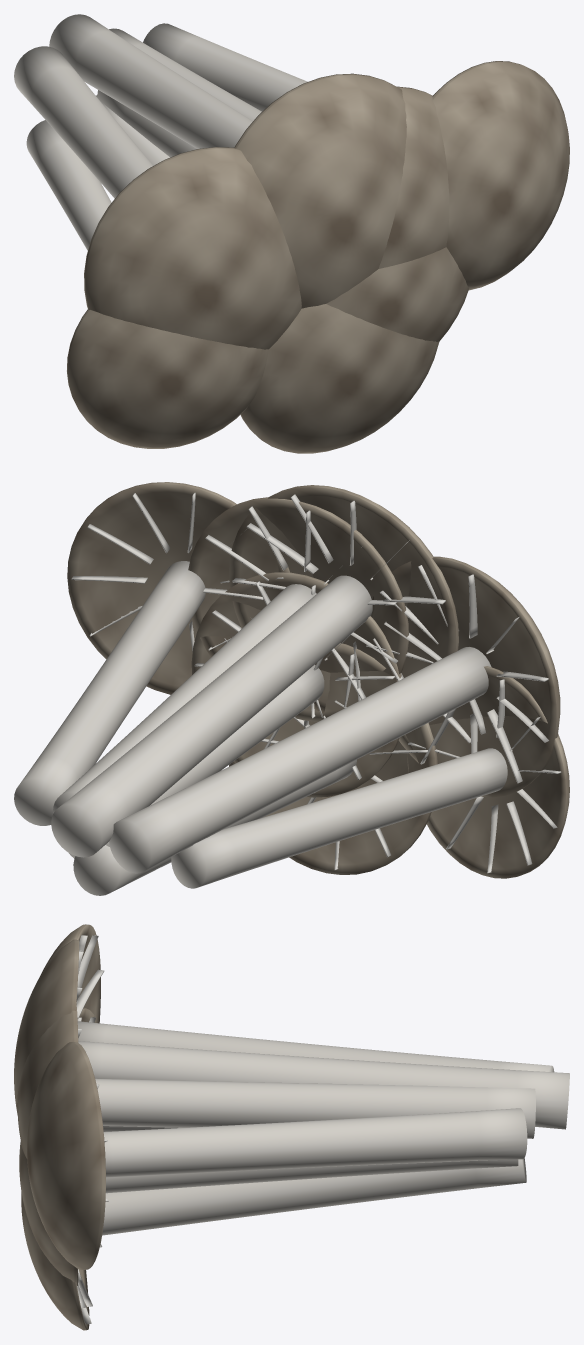
File: hypsizygus-marmoreus.glb
The picture shows the model from 3 angles, top to bottom: view 1: azimuth 30°, elevation 25°; view 2: azimuth 150°, elevation 25°; view 3: azimuth 270°, elevation 25°; orthographic projection. The views are drawn at different scales.
Visible parts, largest first — view 1: pileus_cap, stipe_stem; view 2: stipe_stem, pileus_cap, lamellae_gills; view 3: stipe_stem, pileus_cap, lamellae_gills.
Boxes of the visible parts, <box> form: pileus_cap: <box>67,61,569,453</box>; stipe_stem: <box>14,14,307,250</box>; stipe_stem: <box>14,561,507,895</box>; pileus_cap: <box>67,482,569,878</box>; lamellae_gills: <box>71,492,561,873</box>; stipe_stem: <box>77,1021,569,1235</box>; pileus_cap: <box>14,924,105,1330</box>; lamellae_gills: <box>76,935,108,1324</box>.
Bounding box in the file's own units: 4.34 × 3.15 × 4.37.
